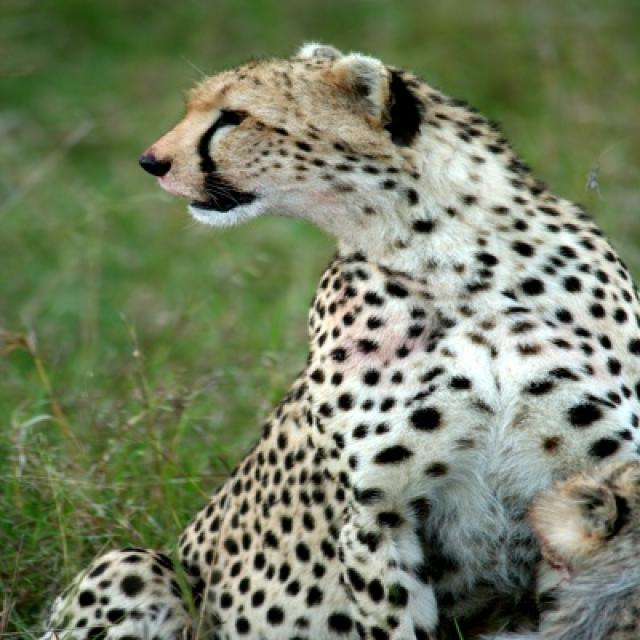Cheetah: (141, 43, 638, 638)
